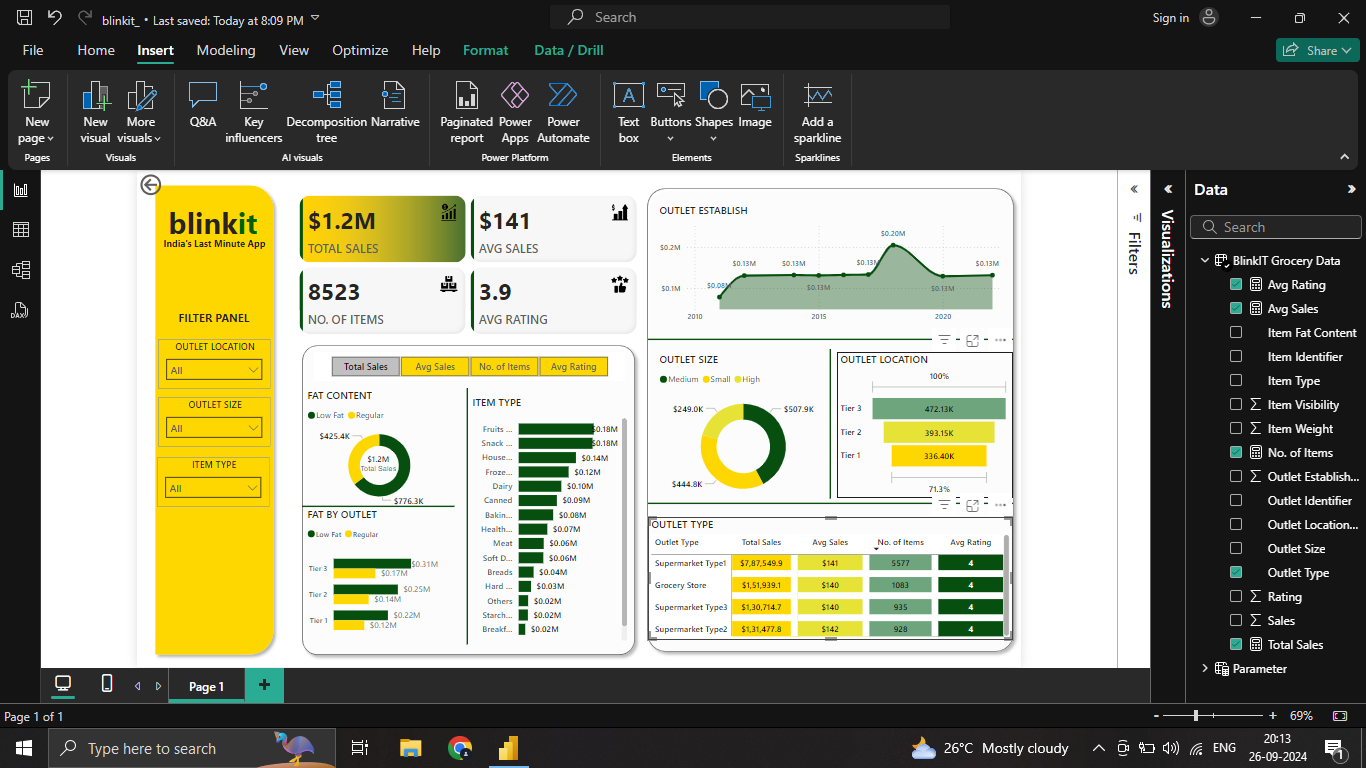

Layout of this report page (visuals, bound fields, positions):
{"tool":"powerbi","page":{"name":"Page 1","canvas":[1280,720],"ordinal":0},"visuals":[{"type":"shape","box":[17.3,11.6,189.4,698.3],"z":0},{"type":"textbox","box":[40.3,40.3,189.8,112.5],"z":1000},{"type":"textbox","box":[16.8,90.7,189.8,62.2],"z":2000},{"type":"cardVisual","fields":{"Data":["BlinkIT Grocery Data.Total Sales","BlinkIT Grocery Data.Avg Sales","BlinkIT Grocery Data.No. of Items","BlinkIT Grocery Data.Avg Rating"]},"box":[229.9,30.4,500.2,212.5],"z":3000},{"type":"shape","box":[229.9,242.9,500.2,467],"z":4000},{"type":"donutChart","title":"FAT CONTENT","fields":{"Y":["BlinkIT Grocery Data.Total Sales"],"Category":["BlinkIT Grocery Data.Item Fat Content"]},"box":[241.4,315.2,218.3,176.4],"z":5000},{"type":"slicer","fields":{"Values":["Parameter.Parameter"]},"box":[255.9,261.7,449.6,41.9],"z":6000},{"type":"cardVisual","fields":{"Data":["BlinkIT Grocery Data.Total Sales"]},"box":[306.5,384.6,88.2,78.1],"z":7000},{"type":"clusteredBarChart","title":"FAT BY OUTLET ","fields":{"Y":["BlinkIT Grocery Data.Total Sales"],"Category":["BlinkIT Grocery Data.Outlet Location Type"],"Series":["BlinkIT Grocery Data.Item Fat Content"]},"box":[241.4,487.2,199.5,199.5],"z":8000},{"type":"shape","box":[238.6,404.8,221.2,163.4],"z":9000},{"type":"shape","box":[368.7,315.2,221.2,371.6],"z":10000},{"type":"barChart","title":"ITEM TYPE","fields":{"Y":["BlinkIT Grocery Data.Total Sales"],"Category":["BlinkIT Grocery Data.Item Type"]},"box":[481.4,325.3,234.2,361.4],"z":11000},{"type":"shape","box":[730.1,15.9,549.4,689.6],"z":12000},{"type":"lineChart","title":"OUTLET ESTABLISH","fields":{"Category":["BlinkIT Grocery Data.Outlet Establishment Year"],"Y":["BlinkIT Grocery Data.Total Sales"]},"box":[751.8,46.3,504.6,182.2],"z":13000},{"type":"shape","box":[740.2,161.9,529.2,163.4],"z":14000},{"type":"donutChart","title":"OUTLET SIZE","fields":{"Y":["BlinkIT Grocery Data.Total Sales"],"Category":["BlinkIT Grocery Data.Outlet Size"]},"box":[751.8,261.7,253,225.5],"z":15000},{"type":"shape","box":[893.5,257.3,221.2,216.9],"z":16000},{"type":"funnel","title":"OUTLET LOCATION","fields":{"Y":["Sum(BlinkIT Grocery Data.Sales)"],"Category":["BlinkIT Grocery Data.Outlet Location Type"]},"box":[1014.9,261.7,254.5,212.5],"z":17000},{"type":"shape","box":[740.2,400.5,529.2,163.4],"z":18000},{"type":"actionButton","box":[0,0,100,40],"z":19000},{"type":"pivotTable","title":"OUTLET TYPE","fields":{"Rows":["BlinkIT Grocery Data.Outlet Type"],"Values":["BlinkIT Grocery Data.Total Sales","BlinkIT Grocery Data.Avg Sales","BlinkIT Grocery Data.No. of Items","BlinkIT Grocery Data.Avg Rating"]},"box":[740.2,501.7,529.2,177.8],"z":20000},{"type":"slicer","title":"OUTLET LOCATION","fields":{"Values":["BlinkIT Grocery Data.Outlet Location Type"]},"box":[30.4,242.9,163.4,72.3],"z":21000},{"type":"slicer","title":"OUTLET SIZE","fields":{"Values":["BlinkIT Grocery Data.Outlet Size"]},"box":[30.4,328.2,163.4,72.3],"z":22000},{"type":"slicer","title":"ITEM TYPE","fields":{"Values":["BlinkIT Grocery Data.Item Type"]},"box":[28.9,414.9,163.4,72.3],"z":23000},{"type":"textbox","box":[28.9,196.6,164.8,47.7],"z":24000}]}

Visuals, with their boxes on the page's 1280x720 design canvas (x1, y1, x2, y2). These are canvas units, not pixel positions in the 1366x768 screenshot, which may show the page scaled, cropped or inside an application window:
shape: (left=17, top=12, right=207, bottom=710)
textbox: (left=40, top=40, right=230, bottom=153)
textbox: (left=17, top=91, right=207, bottom=153)
cardVisual - BlinkIT Grocery Data.Total Sales x BlinkIT Grocery Data.Avg Sales: (left=230, top=30, right=730, bottom=243)
shape: (left=230, top=243, right=730, bottom=710)
"FAT CONTENT" donutChart: (left=241, top=315, right=460, bottom=492)
slicer - Parameter.Parameter: (left=256, top=262, right=706, bottom=304)
cardVisual - BlinkIT Grocery Data.Total Sales: (left=306, top=385, right=395, bottom=463)
"FAT BY OUTLET " clusteredBarChart: (left=241, top=487, right=441, bottom=687)
shape: (left=239, top=405, right=460, bottom=568)
shape: (left=369, top=315, right=590, bottom=687)
"ITEM TYPE" barChart: (left=481, top=325, right=716, bottom=687)
shape: (left=730, top=16, right=1280, bottom=706)
"OUTLET ESTABLISH" lineChart: (left=752, top=46, right=1256, bottom=228)
shape: (left=740, top=162, right=1269, bottom=325)
"OUTLET SIZE" donutChart: (left=752, top=262, right=1005, bottom=487)
shape: (left=894, top=257, right=1115, bottom=474)
"OUTLET LOCATION" funnel: (left=1015, top=262, right=1269, bottom=474)
shape: (left=740, top=400, right=1269, bottom=564)
actionButton: (left=0, top=0, right=100, bottom=40)
"OUTLET TYPE" pivotTable: (left=740, top=502, right=1269, bottom=680)
"OUTLET LOCATION" slicer: (left=30, top=243, right=194, bottom=315)
"OUTLET SIZE" slicer: (left=30, top=328, right=194, bottom=400)
"ITEM TYPE" slicer: (left=29, top=415, right=192, bottom=487)
textbox: (left=29, top=197, right=194, bottom=244)
